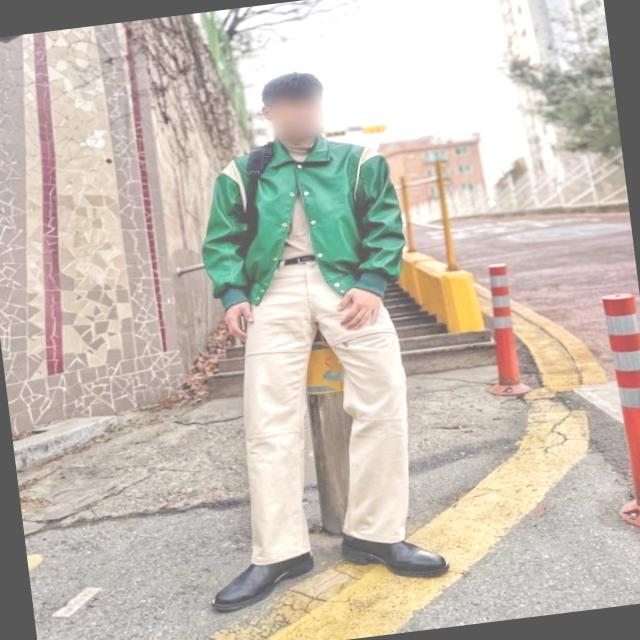cottonpants: (214, 246, 425, 561)
jacket: (188, 120, 412, 319)
